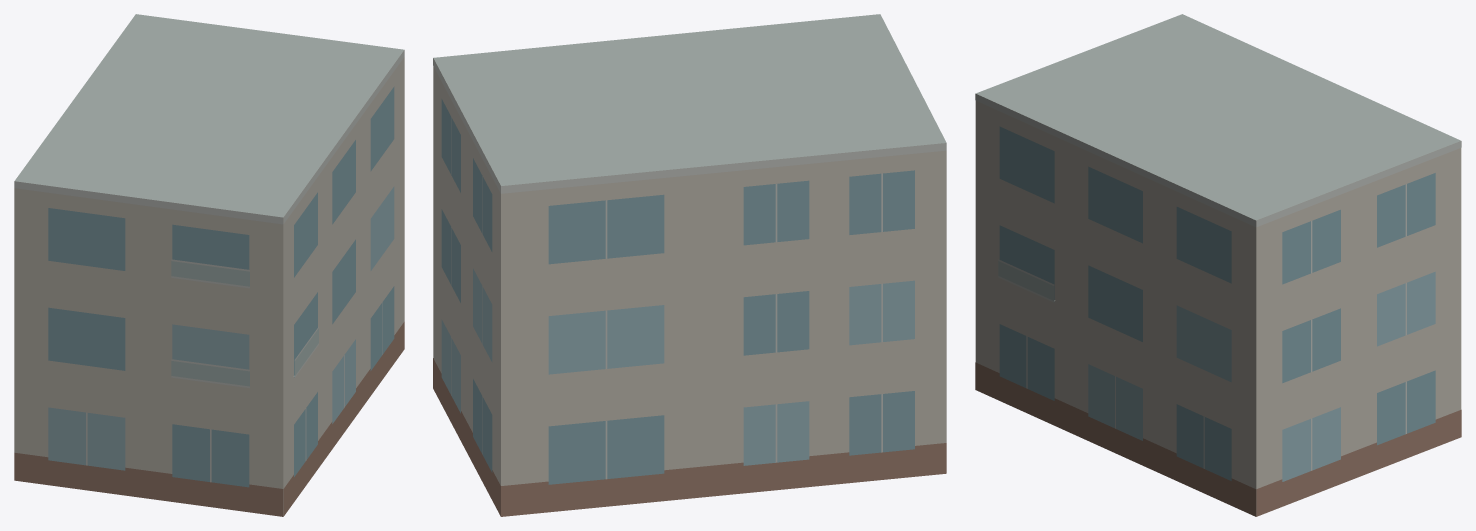
File: survey-upis-32836345.glb
3 views of the same model, side by side, from view 1: azimuth 30°, elevation 25°; view 2: azimuth 150°, elevation 25°; view 3: azimuth 270°, elevation 25° (orthographic). The views are drawn at different scales.
Visible parts, largest first — view 1: survey-upis-32836345.tmp; view 2: survey-upis-32836345.tmp; view 3: survey-upis-32836345.tmp.
Part boxes in pixels (x1,y1,x2,y2): survey-upis-32836345.tmp: [14, 14, 404, 516]; survey-upis-32836345.tmp: [433, 14, 946, 516]; survey-upis-32836345.tmp: [975, 14, 1461, 516].
Bounding box in the file's own units: 15.7 × 10.5 × 15.61.
